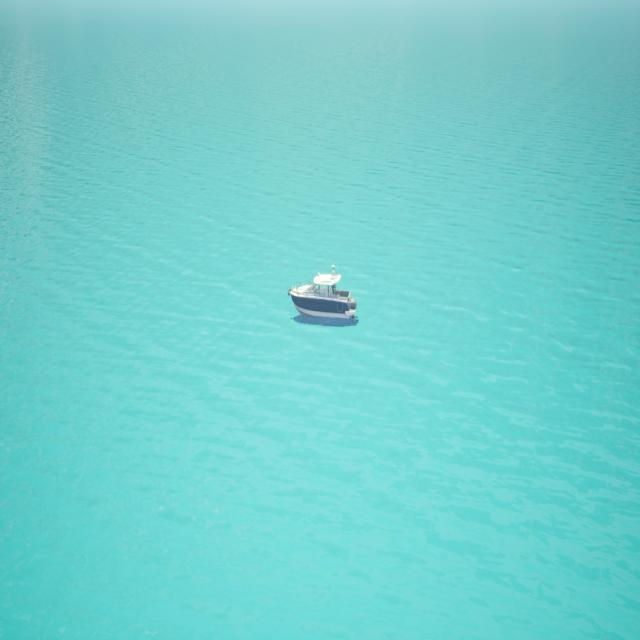ship: (290, 266, 358, 326)
